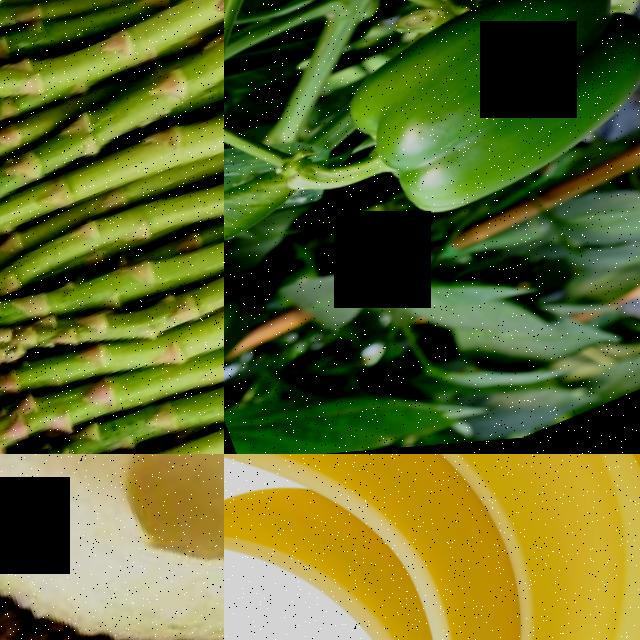asparagus: (0, 88, 214, 294), (0, 0, 219, 187), (0, 325, 224, 454), (0, 362, 224, 454), (0, 246, 149, 378), (0, 320, 143, 454), (0, 0, 215, 89), (0, 386, 224, 454)
avocado: (0, 454, 224, 640)
banana: (224, 454, 640, 640)
bell pepper: (343, 0, 640, 248)
